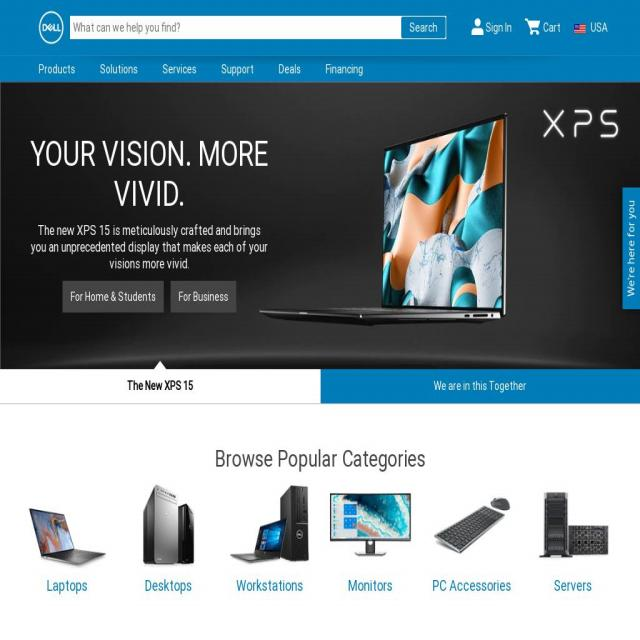language: (571, 13, 611, 40)
login-option: (468, 17, 512, 43)
navigation-blocks: (16, 432, 624, 635)
navigation-links: (35, 53, 366, 85)
search: (68, 8, 452, 44)
